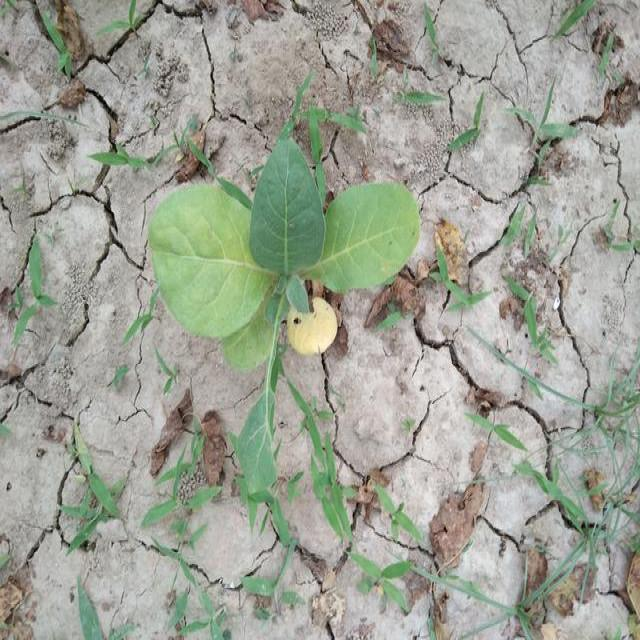crop: (140, 129, 429, 360)
